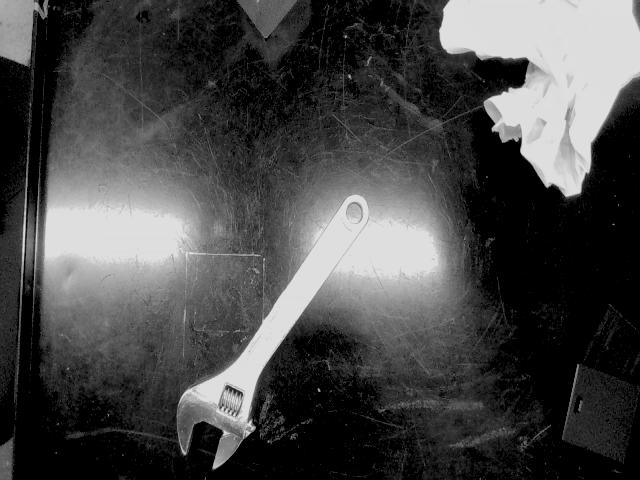Adjustable spanner: (178, 195, 369, 468)
